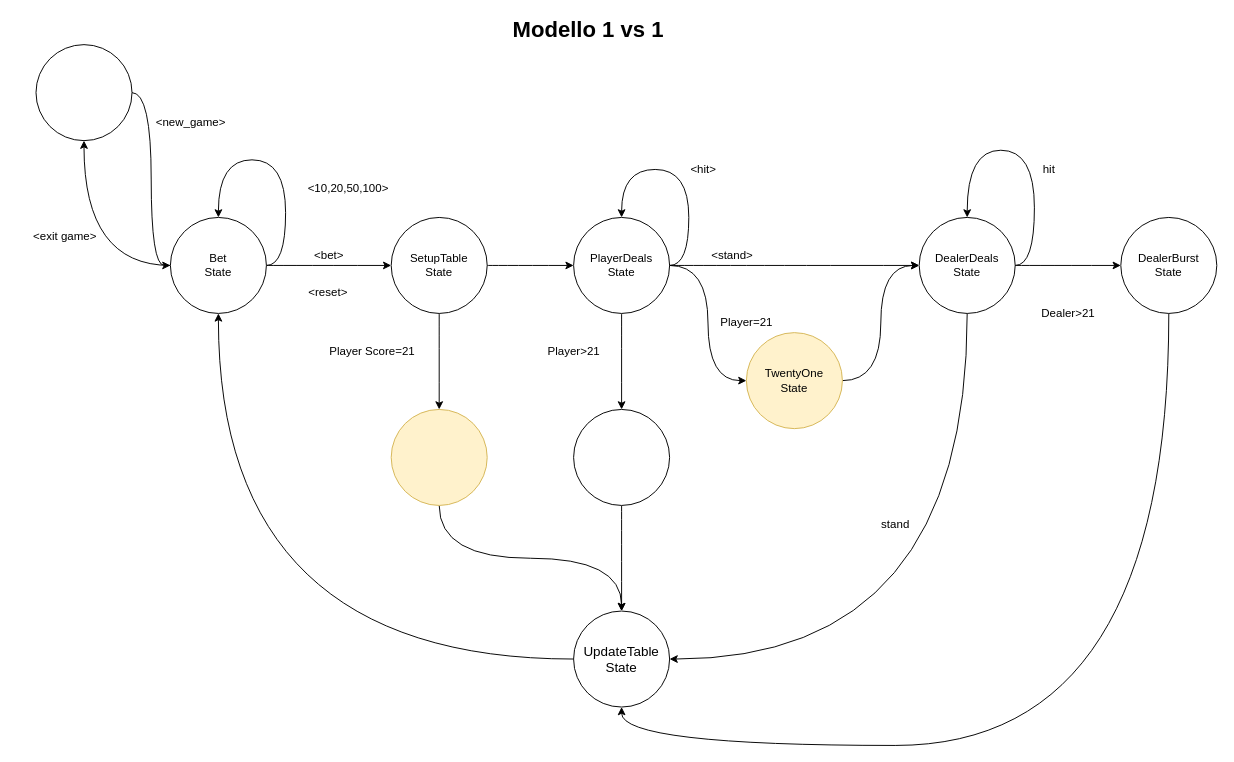
Some shapes in this 1234 by 762 pixel diagram are drawn without their labels. The centre of each missing label's shape, as x and y in pixels:
BlackJack State: the point at 438,456
InitState: the point at 83,92
PlayerBurst State: the point at 621,456
